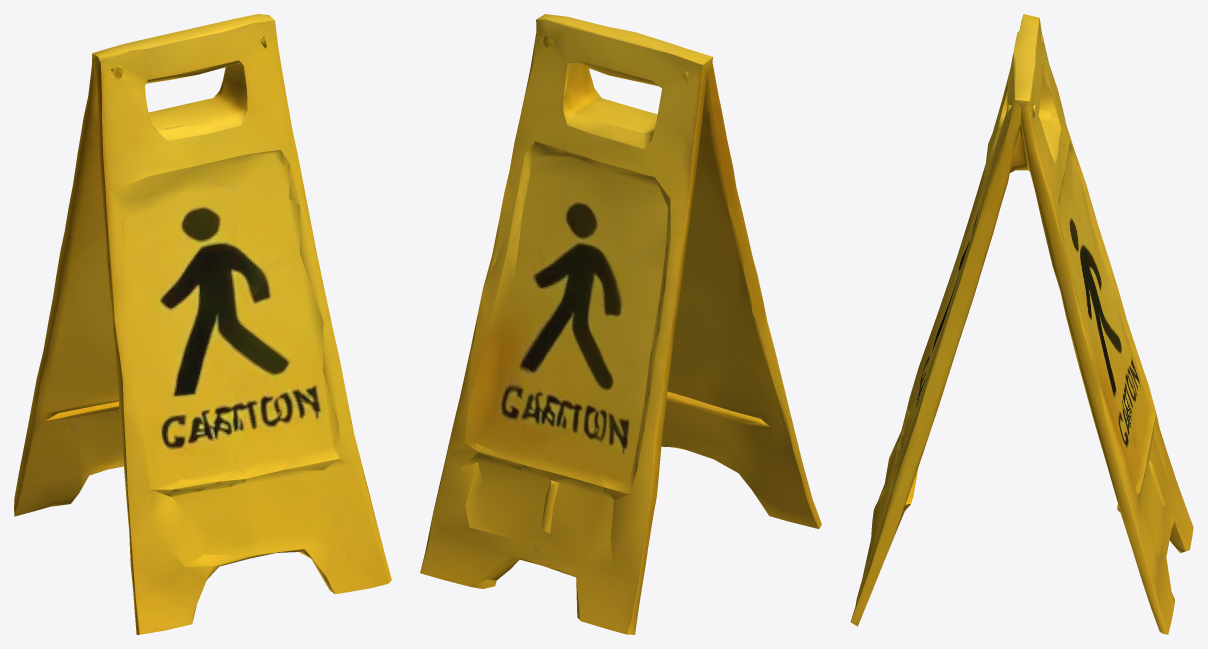
The model's file is wetFloorCone.glb.
The picture shows the model from 3 angles, left to right: view 1: azimuth 30°, elevation 25°; view 2: azimuth 150°, elevation 25°; view 3: azimuth 270°, elevation 25°; orthographic projection.
Visible parts, largest first — view 1: model; view 2: model; view 3: model.
Boxes of the visible parts, bbox=[...] form: model: bbox=[14, 14, 391, 634]; model: bbox=[420, 14, 821, 634]; model: bbox=[850, 14, 1193, 634].
Bounding box in the file's own units: 0.9733 × 1.9 × 1.14.
1 material, 1 textured.
